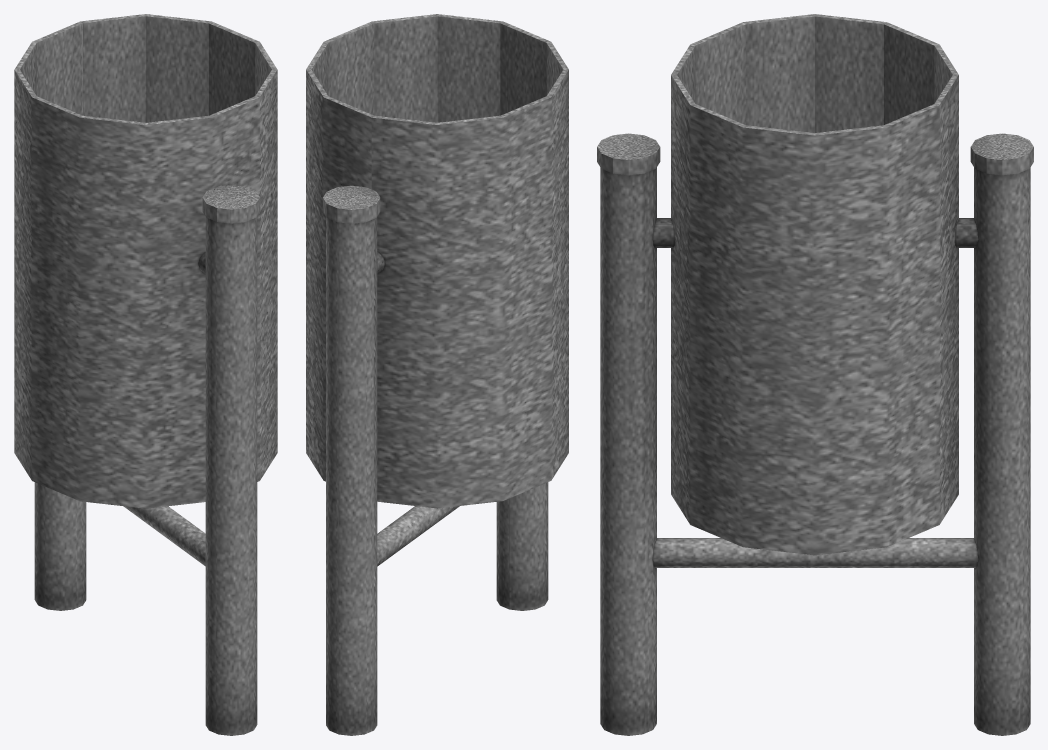
Rendered from Papelera.FBX.
The picture shows the model from 3 angles, left to right: view 1: azimuth 30°, elevation 25°; view 2: azimuth 150°, elevation 25°; view 3: azimuth 270°, elevation 25°; orthographic projection. The views are drawn at different scales.
Parts seen in each view (by area): view 1: Basura001; view 2: Basura001; view 3: Basura001.
Boxes of the visible parts, left/top/right/bottom form: Basura001: left=14, top=14, right=277, bottom=735; Basura001: left=306, top=14, right=568, bottom=735; Basura001: left=597, top=14, right=1033, bottom=735.
Bounding box in the file's own units: 36.71 × 91.34 × 55.7.
